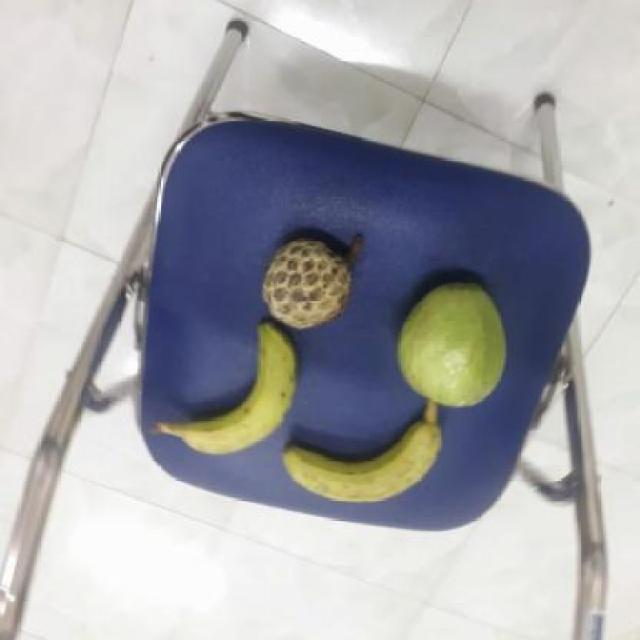banana: (173, 324, 304, 454)
guava: (398, 277, 514, 408)
sugar apple: (262, 234, 366, 328)
